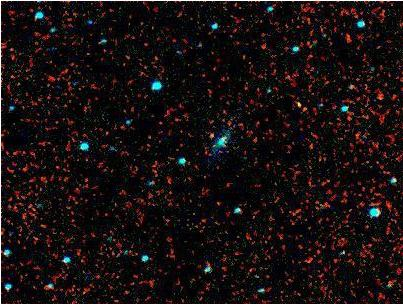star: (291, 86, 321, 116)
